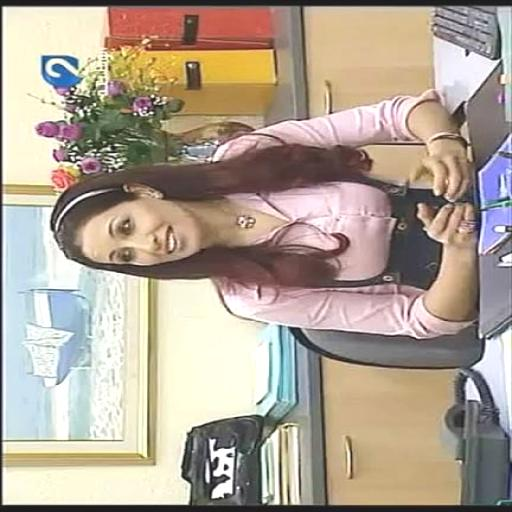Dalanda: (75, 186, 216, 276)
